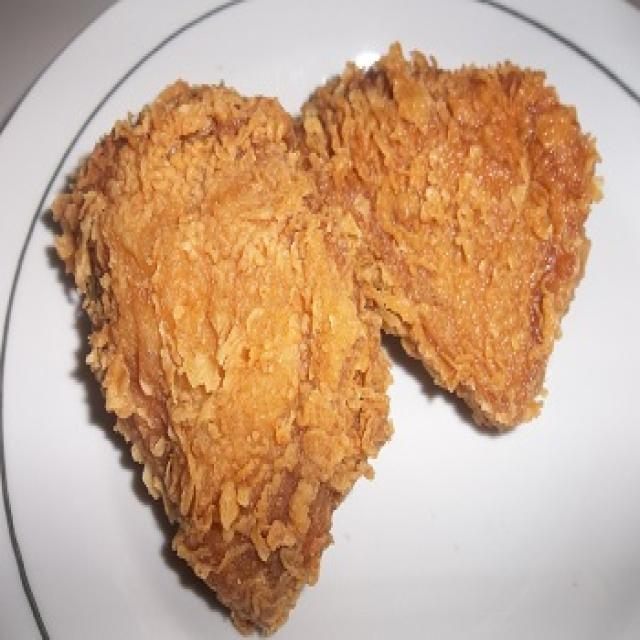Frango: (42, 79, 393, 637), (289, 48, 607, 436)
